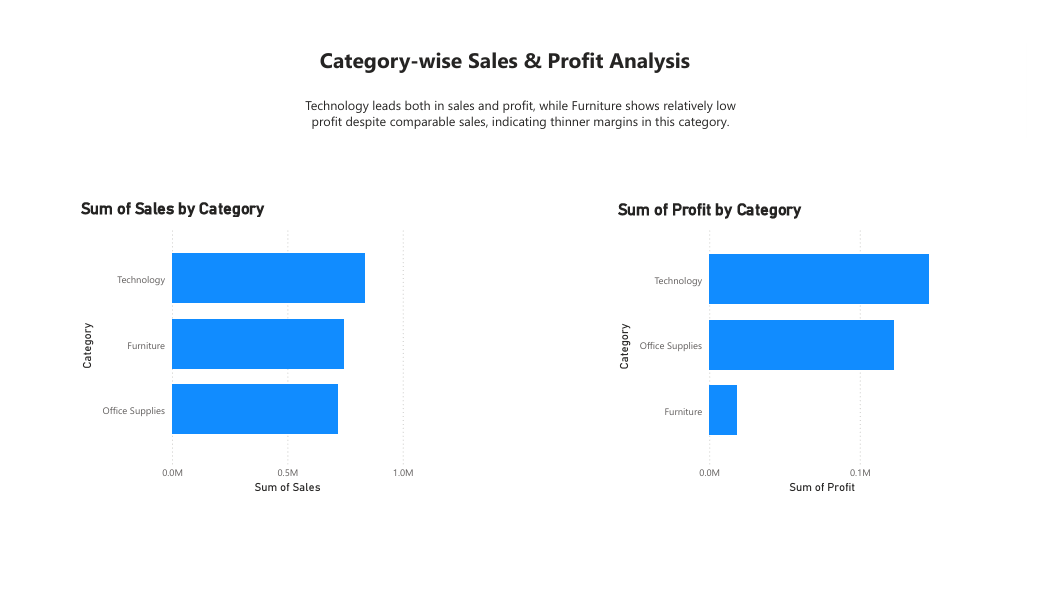

The dashboard page shown, as its layout file describes it:
{"tool":"powerbi","page":{"name":"Category Analysis","canvas":[1280,720],"ordinal":1},"visuals":[{"type":"clusteredBarChart","fields":{"Category":["Orders.Category"],"Y":["Sum(Orders.Sales)"]},"box":[77.9,238,432,377.6],"z":0},{"type":"clusteredBarChart","fields":{"Category":["Orders.Category"],"Y":["Sum(Orders.Profit)"]},"box":[758.2,239.5,426.1,376.2],"z":1},{"type":"textbox","box":[380.6,38.2,520.2,48.5],"z":2},{"type":"textbox","box":[351.2,102.9,578.9,60.2],"z":3}]}

Visuals, with their boxes in screenshot pixels (x1, y1, x2, y2), scaled from the page's 1280x720 canvas onto the 1042x593 screenshot:
clusteredBarChart - Orders.Category x Sum(Orders.Sales): crop(63, 196, 415, 507)
clusteredBarChart - Orders.Category x Sum(Orders.Profit): crop(617, 197, 964, 507)
textbox: crop(310, 31, 733, 71)
textbox: crop(286, 85, 757, 134)
